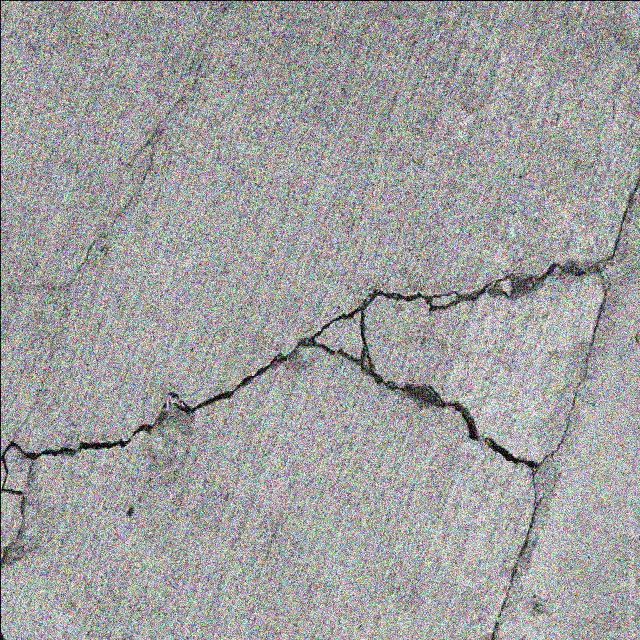SurfaceCrack: (0, 212, 638, 503)
